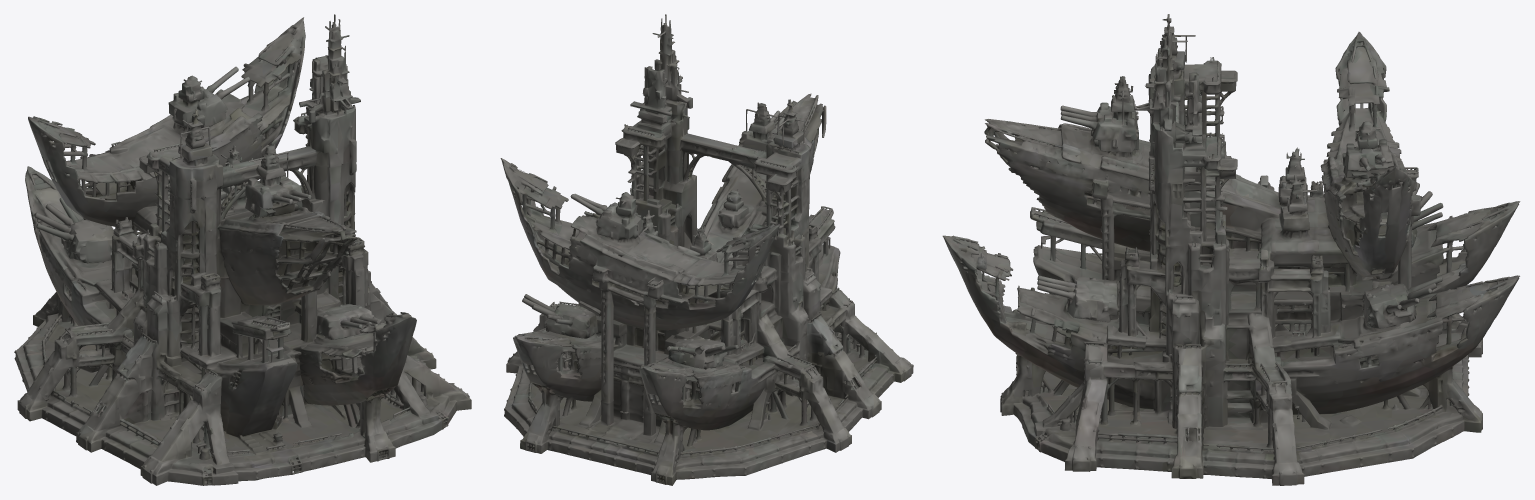
Rendered from monument_ancient_war_cemetery.glb.
3 renders of one model, left to right at view 1: azimuth 30°, elevation 25°; view 2: azimuth 150°, elevation 25°; view 3: azimuth 270°, elevation 25°, orthographic. The views are drawn at different scales.
Visible parts, largest first — view 1: tripo_node_bd090bb3-846c-4ebd-af04-843b8efeb430; view 2: tripo_node_bd090bb3-846c-4ebd-af04-843b8efeb430; view 3: tripo_node_bd090bb3-846c-4ebd-af04-843b8efeb430.
Boxes of the visible parts, <box> form: tripo_node_bd090bb3-846c-4ebd-af04-843b8efeb430: <box>14,14,471,485</box>; tripo_node_bd090bb3-846c-4ebd-af04-843b8efeb430: <box>500,14,913,485</box>; tripo_node_bd090bb3-846c-4ebd-af04-843b8efeb430: <box>942,14,1520,485</box>.
Bounding box in the file's own units: 0.7819 × 0.7612 × 0.9843.
Materials: 1 (1 with a texture image).
